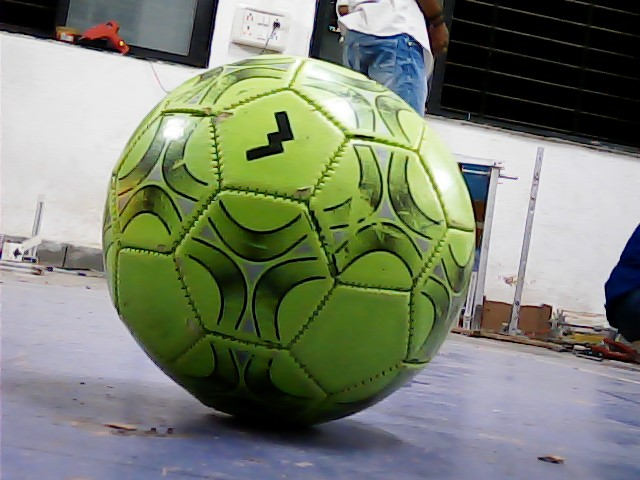Green_ball: (96, 52, 519, 428)
